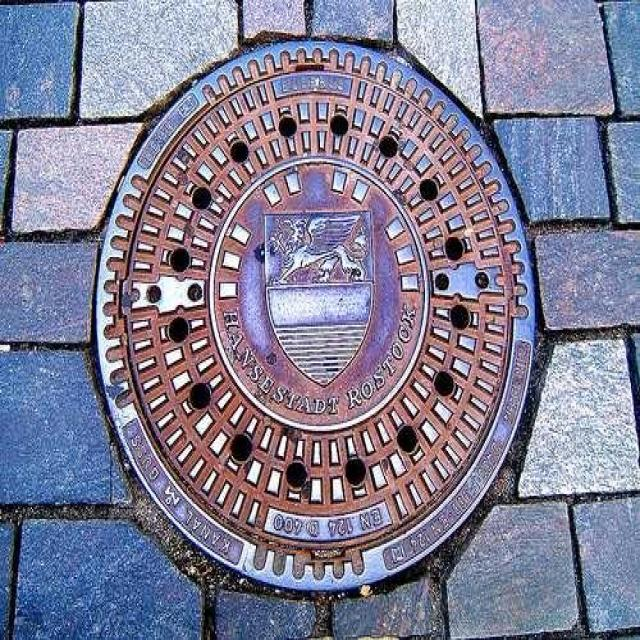manhole: (91, 33, 541, 597)
